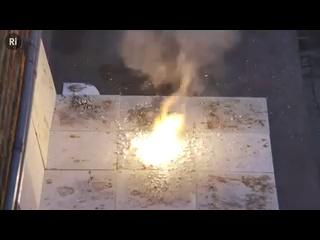Fire: (127, 107, 180, 170)
